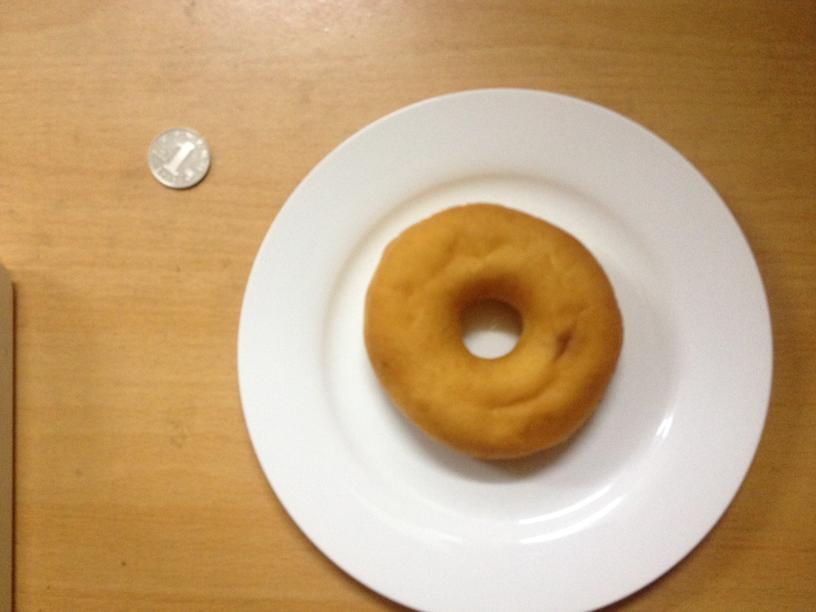coin: (147, 125, 212, 189)
doughnut: (357, 203, 625, 462)
